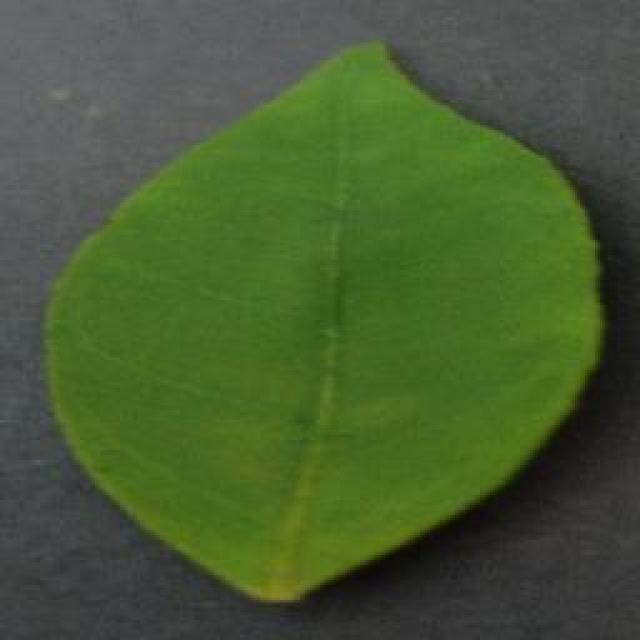Orange_Haunglongbing_Citrus_greening: (115, 115, 541, 545)
